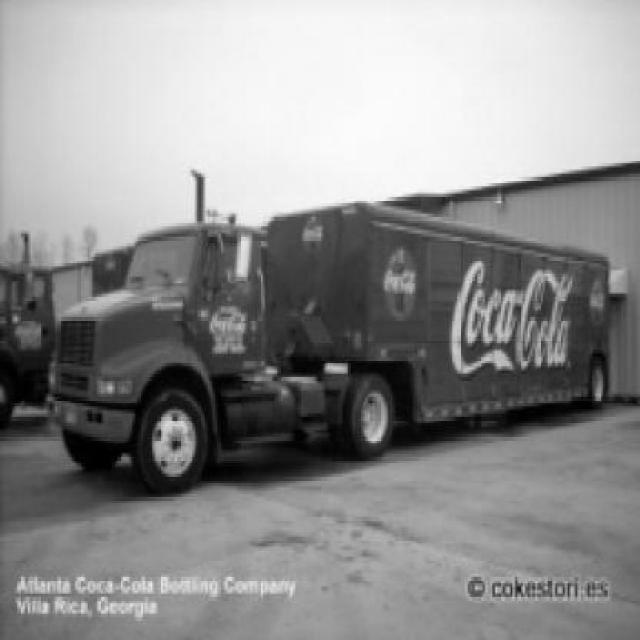Tractor Trailer: (47, 171, 612, 496)
